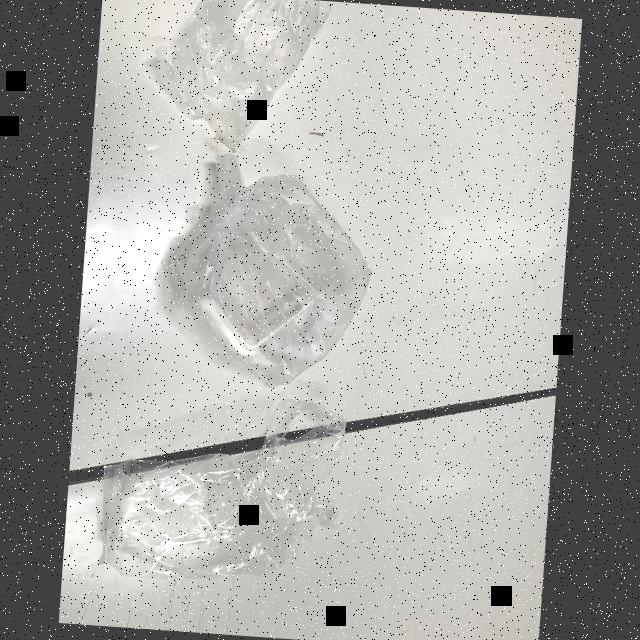plastic_bag: (89, 369, 369, 607), (143, 146, 404, 392)
scrap_plastic: (142, 0, 373, 152)
